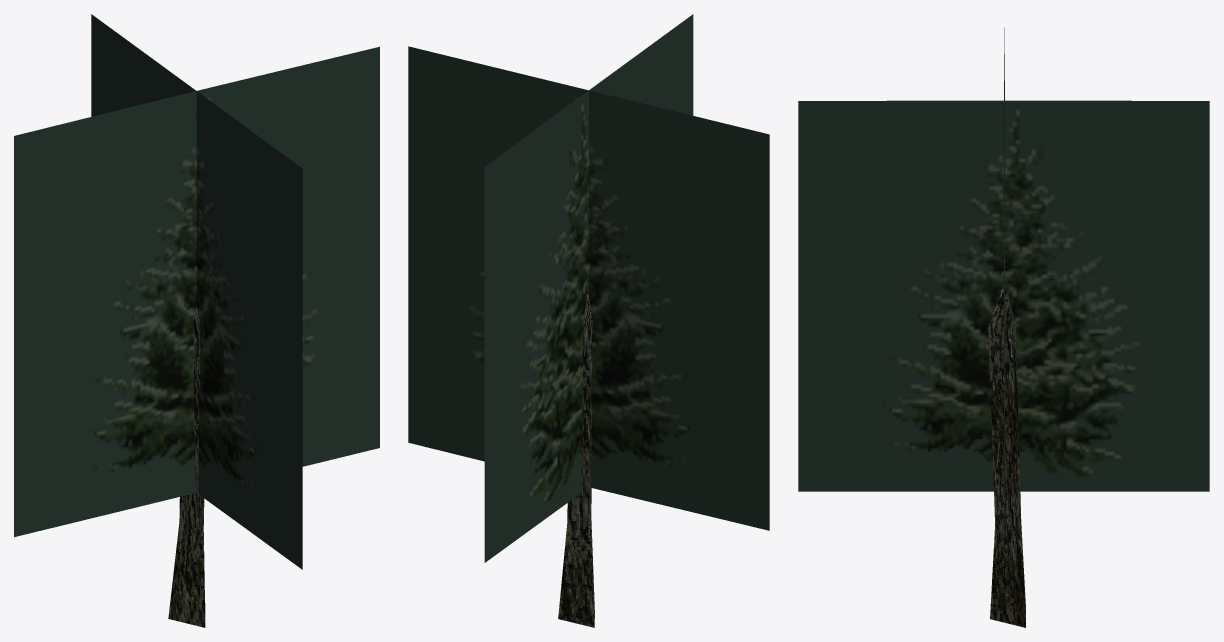
File: Tree5.fbx
3 renders of one model, left to right at view 1: azimuth 30°, elevation 25°; view 2: azimuth 150°, elevation 25°; view 3: azimuth 270°, elevation 25°, orthographic. The views are drawn at different scales.
Parts seen in each view (by area): view 1: lomb, torzs; view 2: lomb, torzs; view 3: lomb, torzs.
Part boxes in pixels (<box>): lomb: <box>14,14,379,569</box>; torzs: <box>168,302,205,627</box>; lomb: <box>408,14,769,562</box>; torzs: <box>558,289,594,627</box>; lomb: <box>798,27,1209,564</box>; torzs: <box>988,284,1025,627</box>.
Size of the model in its own units: 65.35 by 90.72 by 65.35.
